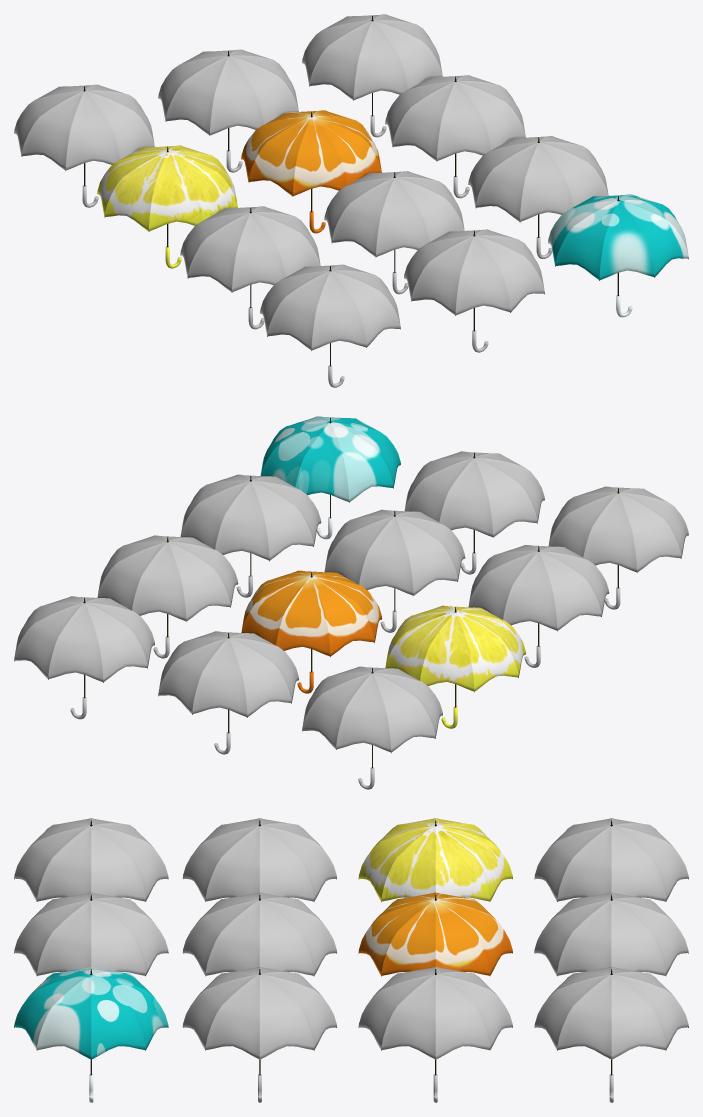
The model's file is Umbrella.fbx.
The picture shows the model from 3 angles, top to bottom: view 1: azimuth 30°, elevation 25°; view 2: azimuth 150°, elevation 25°; view 3: azimuth 270°, elevation 25°; orthographic projection. The views are drawn at different scales.
Parts seen in each view (by area): view 1: Umbrella_polka dots, Umbrella_sunflower, Umbrella_hydrangea, Umbrella_pineapple, Umbrella_Pizza, Umbrella_lemon, Umbrella_orange, Umbrella_cherries, Umbrella_strawberry, Umbrella_sweets, Umbrella_Japanese pattern, Umbrella_watermelon; view 2: Umbrella_strawberry, Umbrella_cherries, Umbrella_pineapple, Umbrella_watermelon, Umbrella_lemon, Umbrella_Japanese pattern, Umbrella_sweets, Umbrella_Pizza, Umbrella_orange, Umbrella_hydrangea, Umbrella_sunflower, Umbrella_polka dots; view 3: Umbrella_polka dots, Umbrella_strawberry, Umbrella_Pizza, Umbrella_watermelon, Umbrella_sweets, Umbrella_lemon, Umbrella_orange, Umbrella_cherries, Umbrella_Japanese pattern, Umbrella_pineapple, Umbrella_sunflower, Umbrella_hydrangea.
Part boxes in pixels (box(x1,y1,x2,y2)): Umbrella_polka dots: box(548, 194, 688, 317); Umbrella_sunflower: box(404, 229, 544, 352); Umbrella_hydrangea: box(260, 264, 400, 387); Umbrella_pineapple: box(14, 84, 154, 207); Umbrella_Pizza: box(385, 75, 525, 198); Umbrella_lemon: box(97, 145, 237, 268); Umbrella_orange: box(241, 110, 381, 233); Umbrella_cherries: box(158, 49, 298, 172); Umbrella_strawberry: box(302, 14, 442, 137); Umbrella_sweets: box(324, 171, 464, 294); Umbrella_Japanese pattern: box(180, 206, 320, 329); Umbrella_watermelon: box(468, 136, 608, 258); Umbrella_strawberry: box(14, 596, 154, 719); Umbrella_cherries: box(158, 631, 299, 754); Umbrella_pineapple: box(302, 666, 442, 789); Umbrella_watermelon: box(180, 474, 321, 597); Umbrella_lemon: box(385, 605, 525, 728); Umbrella_Japanese pattern: box(468, 545, 609, 667); Umbrella_sweets: box(324, 509, 465, 632); Umbrella_Pizza: box(97, 535, 238, 658); Umbrella_orange: box(241, 570, 382, 693); Umbrella_hydrangea: box(548, 486, 688, 609); Umbrella_sunflower: box(404, 451, 544, 574); Umbrella_polka dots: box(260, 416, 400, 539); Umbrella_polka dots: box(14, 966, 168, 1102); Umbrella_strawberry: box(534, 966, 688, 1102); Umbrella_Pizza: box(358, 966, 512, 1102); Umbrella_watermelon: box(182, 967, 336, 1102); Umbrella_sweets: box(182, 892, 336, 976); Umbrella_lemon: box(358, 818, 512, 901); Umbrella_orange: box(358, 892, 512, 976); Umbrella_cherries: box(534, 892, 688, 976); Umbrella_Japanese pattern: box(182, 818, 336, 901); Umbrella_pineapple: box(534, 818, 688, 901); Umbrella_sunflower: box(14, 892, 168, 976); Umbrella_hydrangea: box(14, 818, 168, 901).
Bounding box in the file's own units: 3.74 × 1.06 × 4.99.
